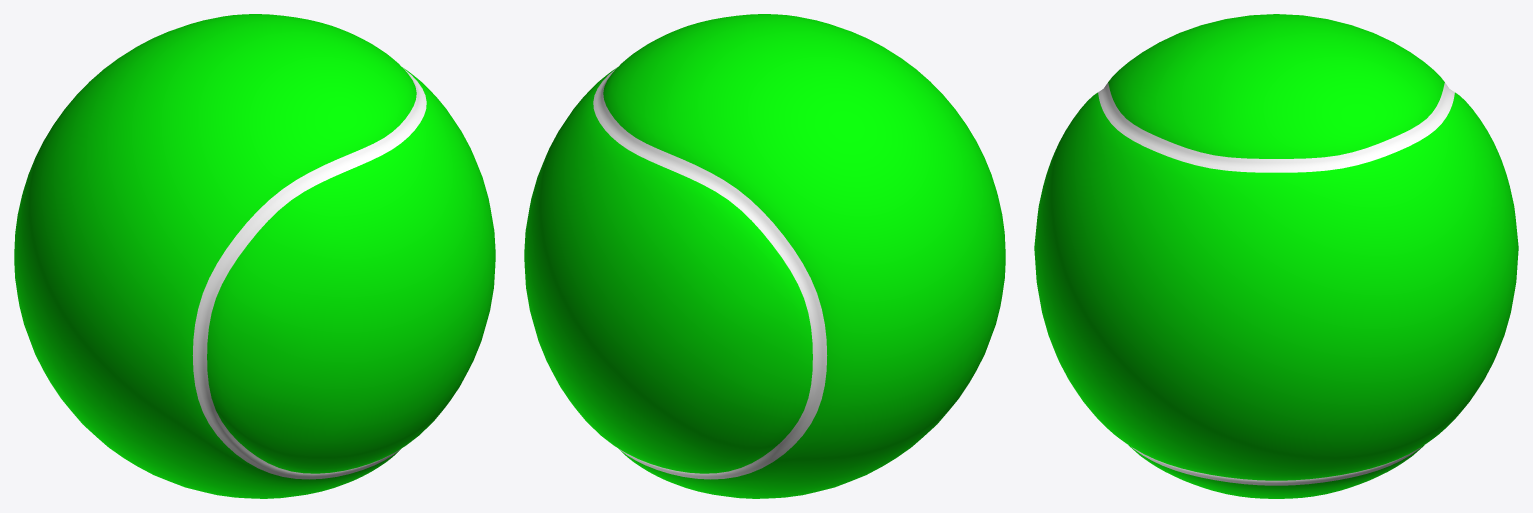
The model's file is tennis_green.dae.
3 views of the same model, side by side, from view 1: azimuth 30°, elevation 25°; view 2: azimuth 150°, elevation 25°; view 3: azimuth 270°, elevation 25° (orthographic).
Parts seen in each view (by area): view 1: SketchUp (×3); view 2: SketchUp (×3); view 3: SketchUp (×3).
Part boxes in pixels (x1,y1,x2,y2): SketchUp (×3): [14, 14, 495, 498]; SketchUp (×3): [524, 14, 1005, 498]; SketchUp (×3): [1034, 14, 1518, 498].
Bounding box in the file's own units: 2.5 × 2.51 × 2.51.
